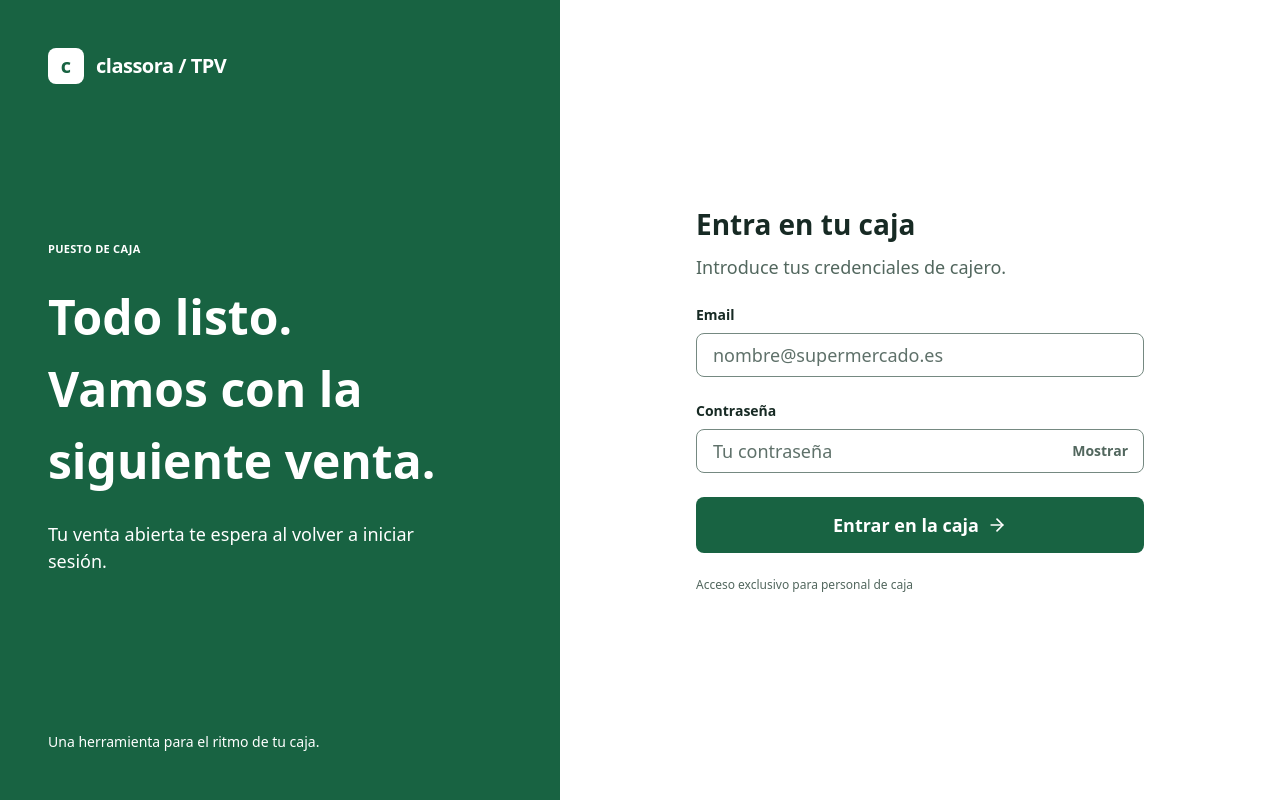
Test: Auth: Login Screen Integration › should tell the cashier the server is unreachable when the network fails
Check: the heading "Entra en tu caja" is shown, box [696, 205, 915, 243]
In the field labelled "Email": (920, 355) [696, 333, 1144, 377], type "cajero@pos.local"
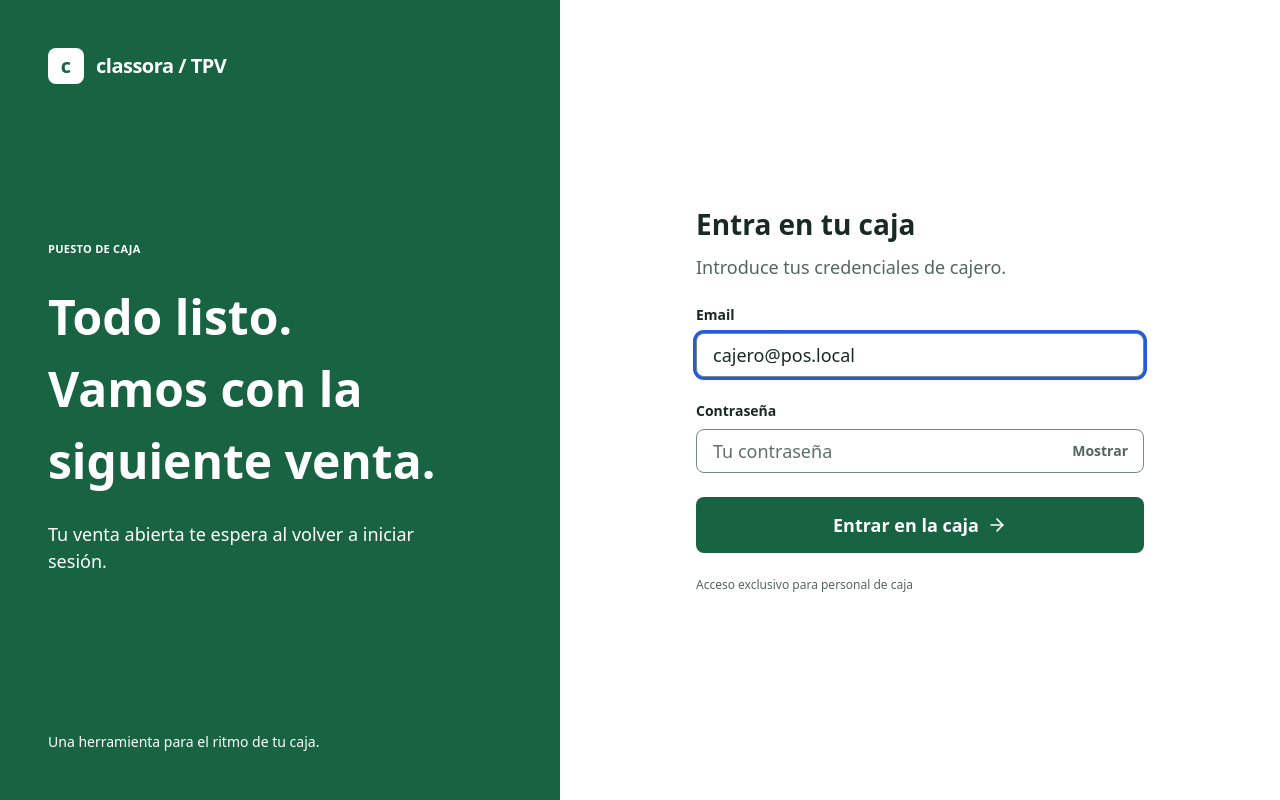
In the password field labelled "Contraseña": (920, 451) [696, 429, 1144, 473], type "cajero1234"
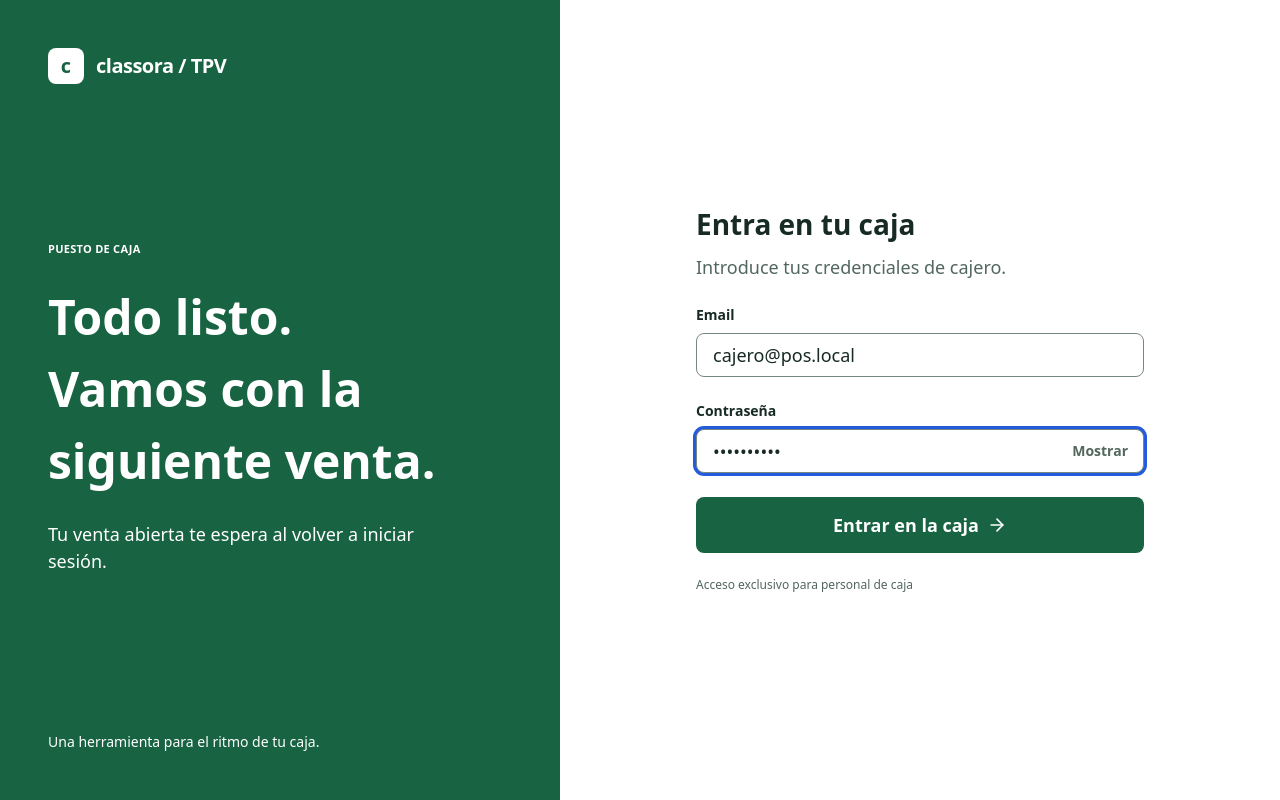
Click the button "Entrar en la caja": (920, 525) [696, 497, 1144, 553]
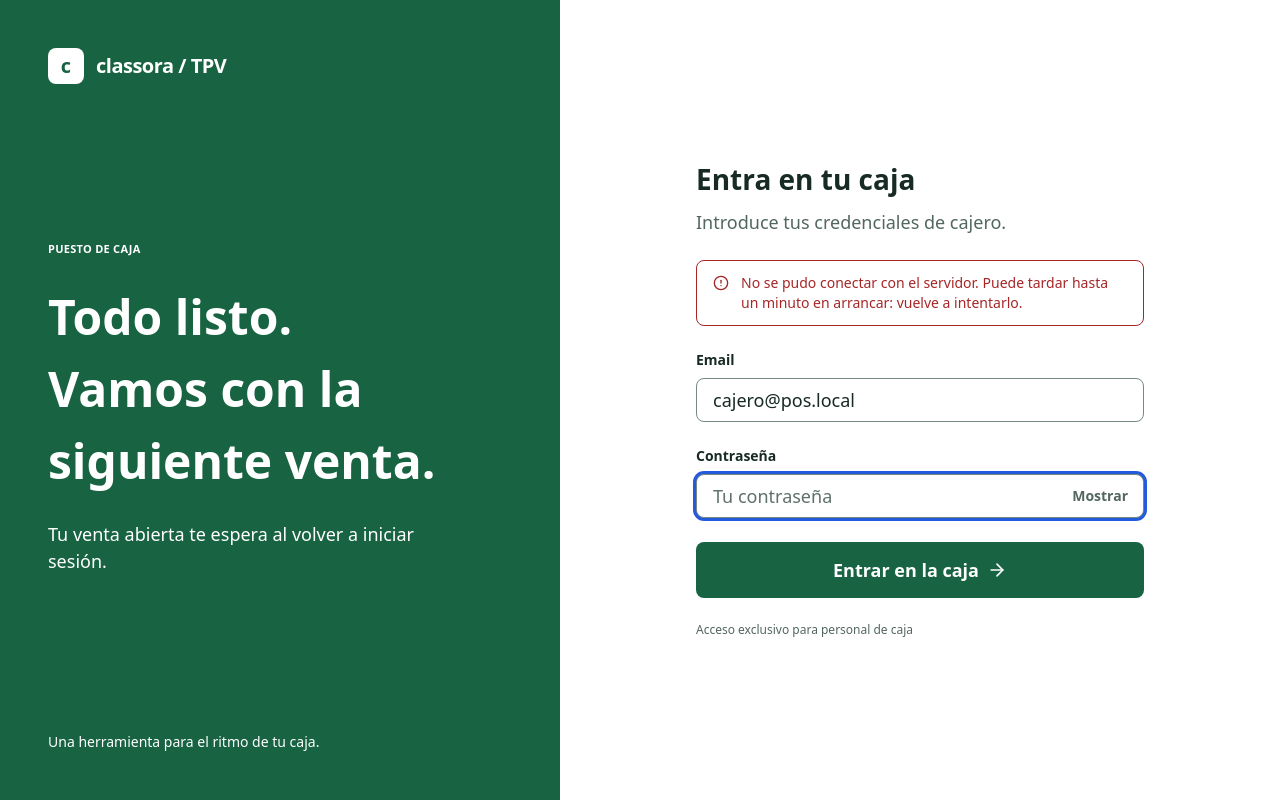
Check: the message shows "No se pudo conectar con el servidor.", box [741, 273, 1108, 312]
